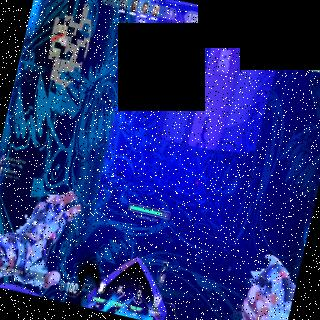ENEMY-BODY: (196, 111, 212, 148)
ENEMY-HEAD: (204, 114, 207, 118)
